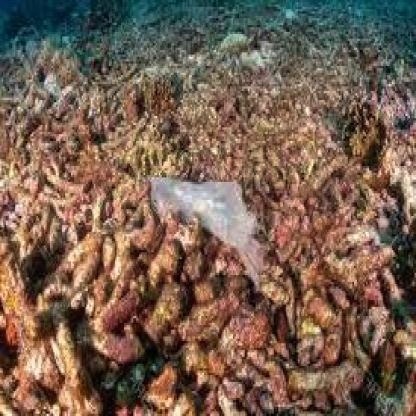pbag: (141, 168, 263, 293)
